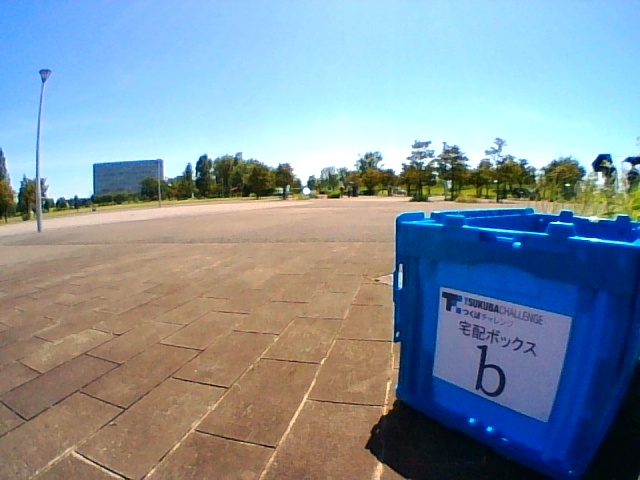blue_box: (395, 209, 640, 424)
tag_b: (453, 315, 544, 398)
